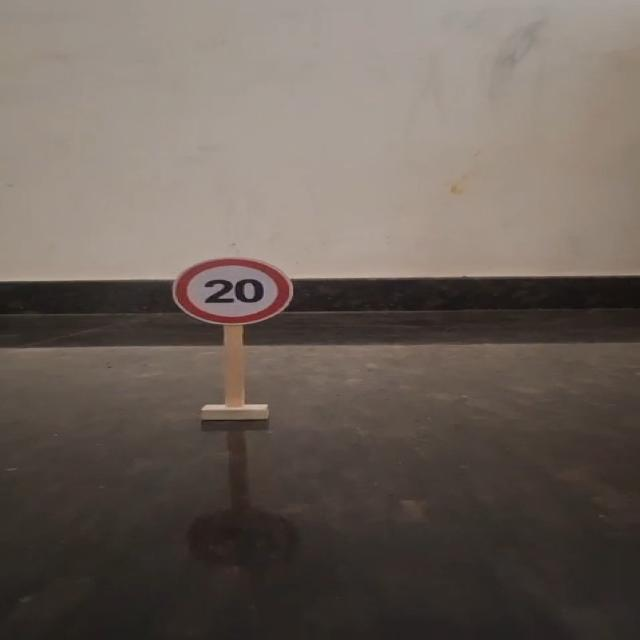Speed20: (164, 253, 300, 327)
